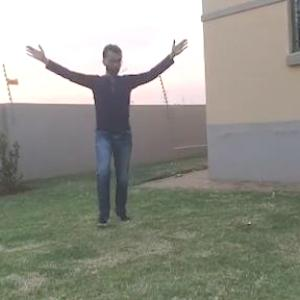takeoff: (2, 6, 185, 242)
